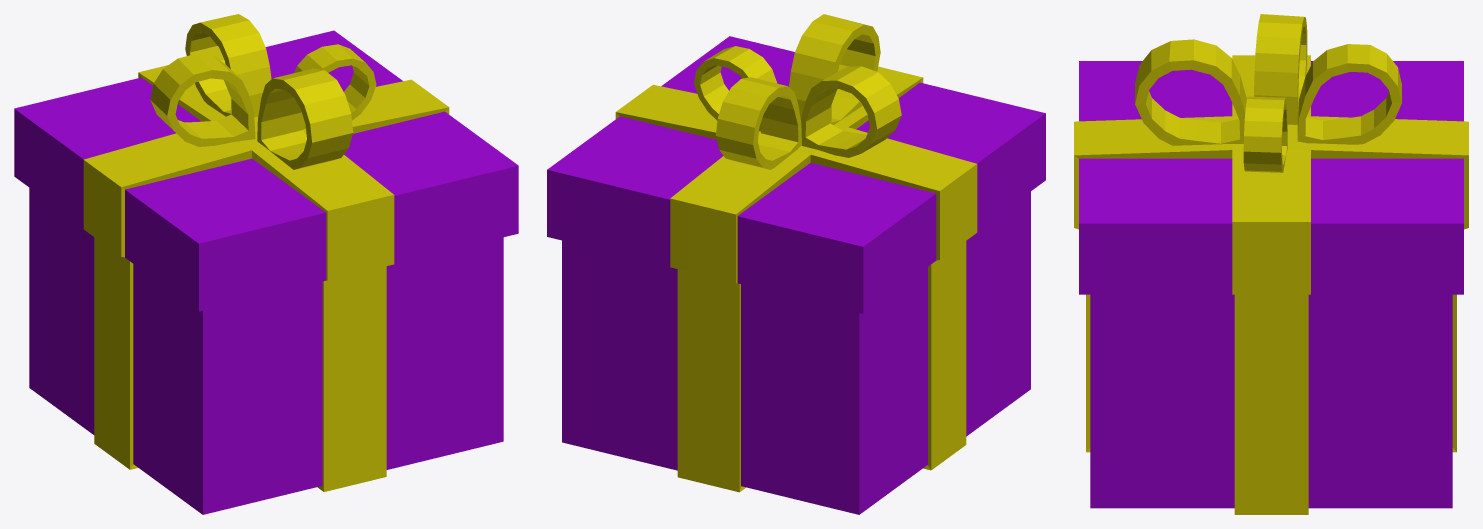
The model's file is kado.glb.
3 renders of one model, left to right at view 1: azimuth 30°, elevation 25°; view 2: azimuth 150°, elevation 25°; view 3: azimuth 270°, elevation 25°, orthographic. The views are drawn at different scales.
Parts seen in each view (by area): view 1: kado, deksel; view 2: kado, deksel; view 3: deksel, kado.
Part boxes in pixels (left/top/right/bottom): kado: left=29, top=188, right=503, bottom=514; deksel: left=14, top=14, right=518, bottom=311; kado: left=562, top=191, right=1030, bottom=514; deksel: left=547, top=14, right=1045, bottom=313; deksel: left=1074, top=14, right=1468, bottom=294; kado: left=1086, top=294, right=1456, bottom=514.
Size of the model in its own units: 2.18 by 2.36 by 2.18.
Materials: 1 (1 with a texture image).
